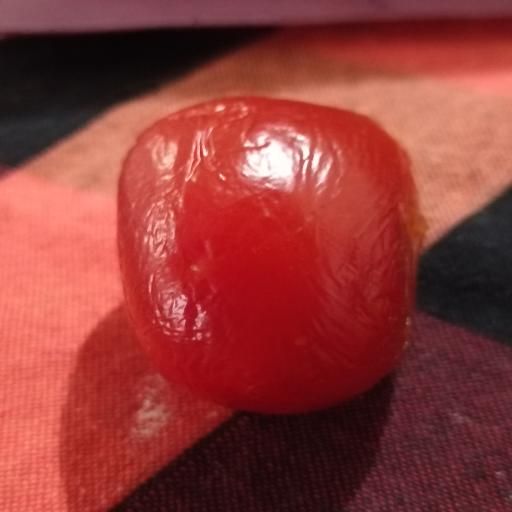spoiled: (118, 99, 422, 412)
